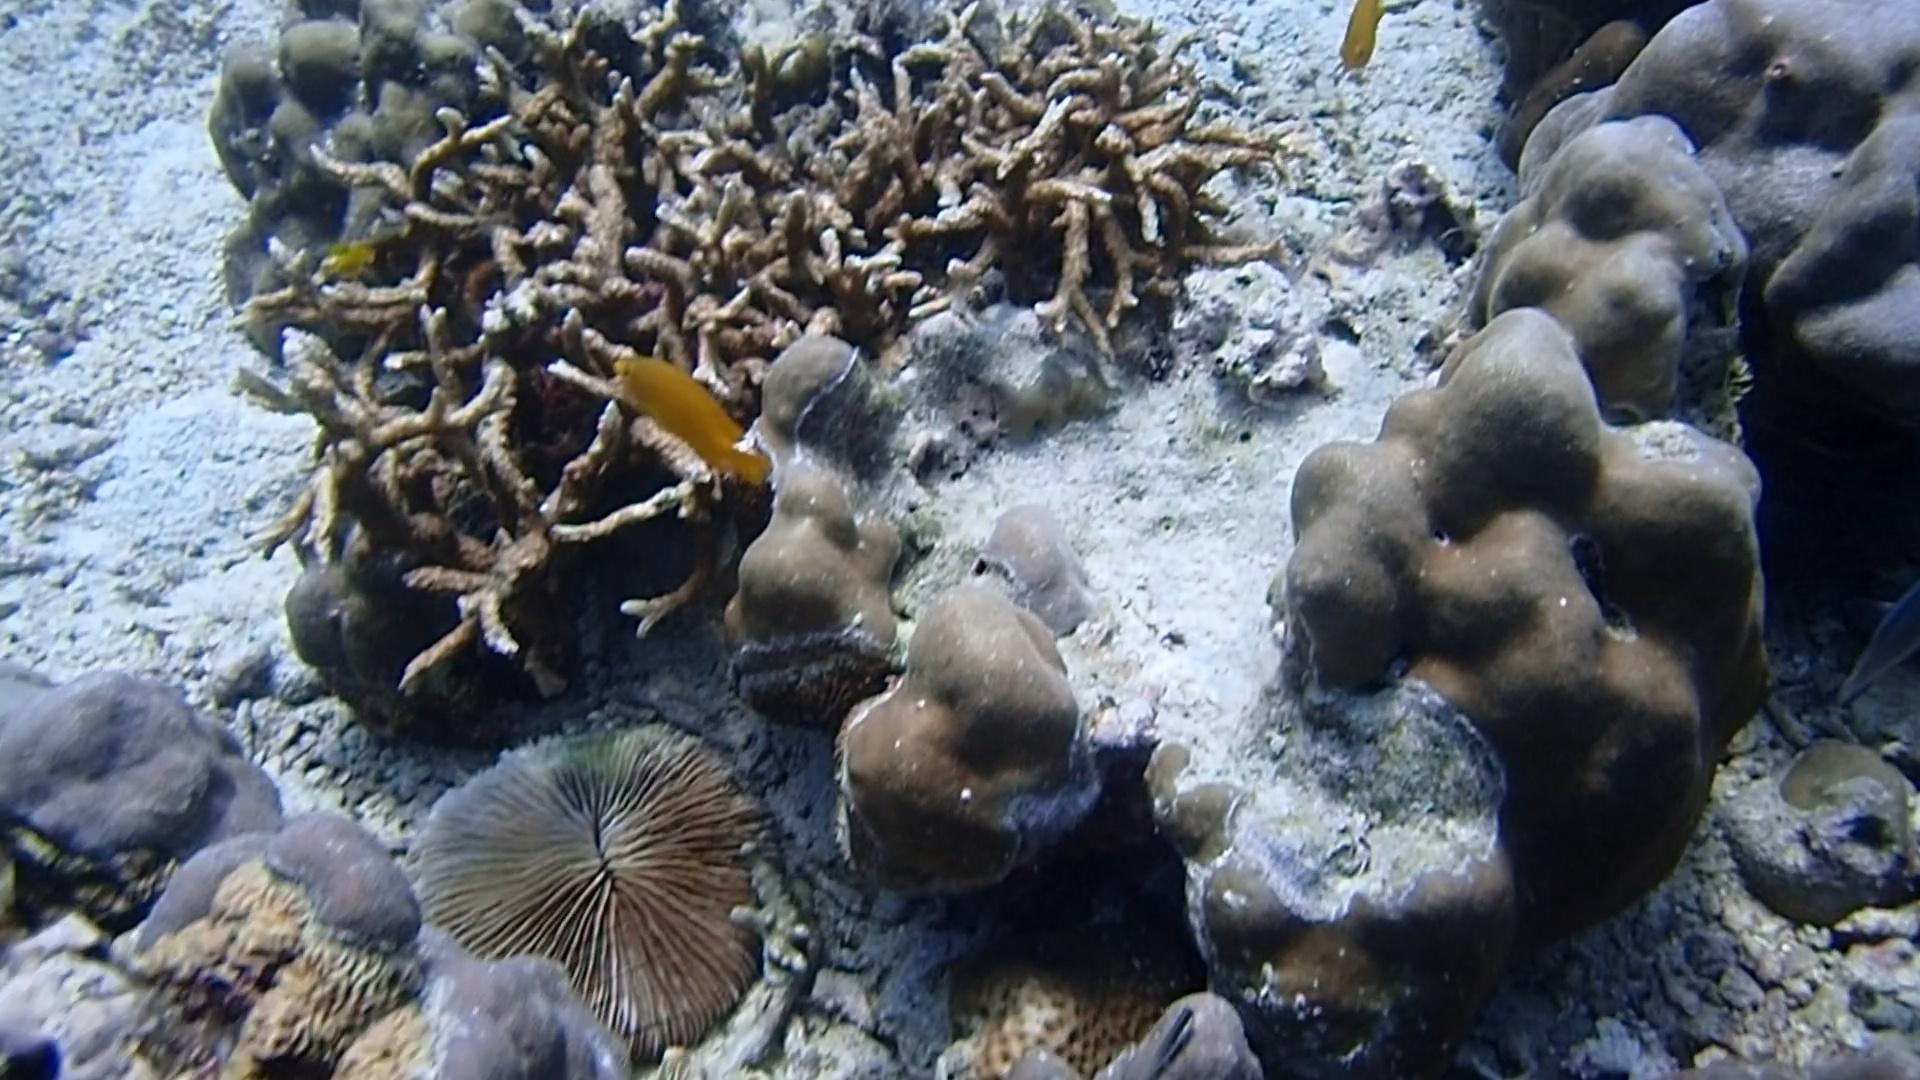Yellow Fish: (608, 342, 779, 497), (1333, 0, 1389, 80), (323, 237, 386, 290)
